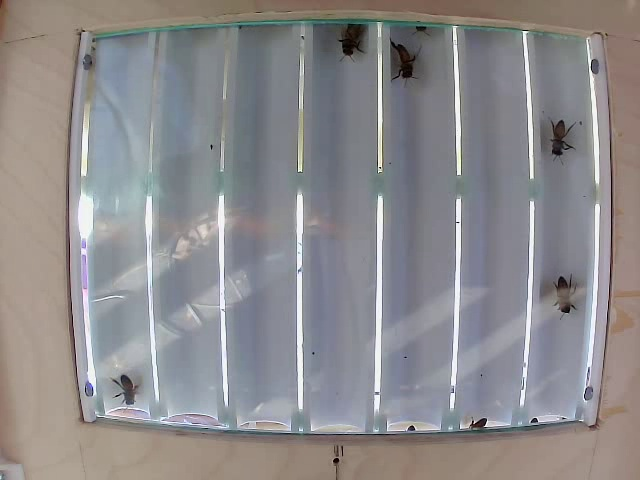bee: (103, 381, 168, 423), (551, 268, 582, 312), (392, 37, 415, 92), (553, 113, 580, 158), (341, 20, 368, 61)
